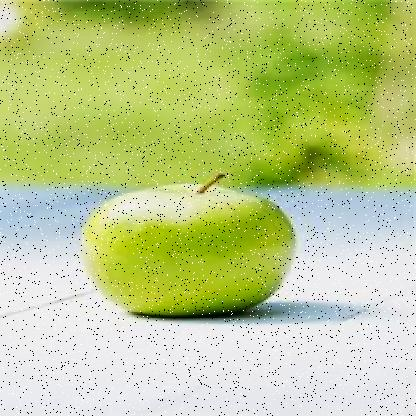apple: (82, 180, 302, 324)
